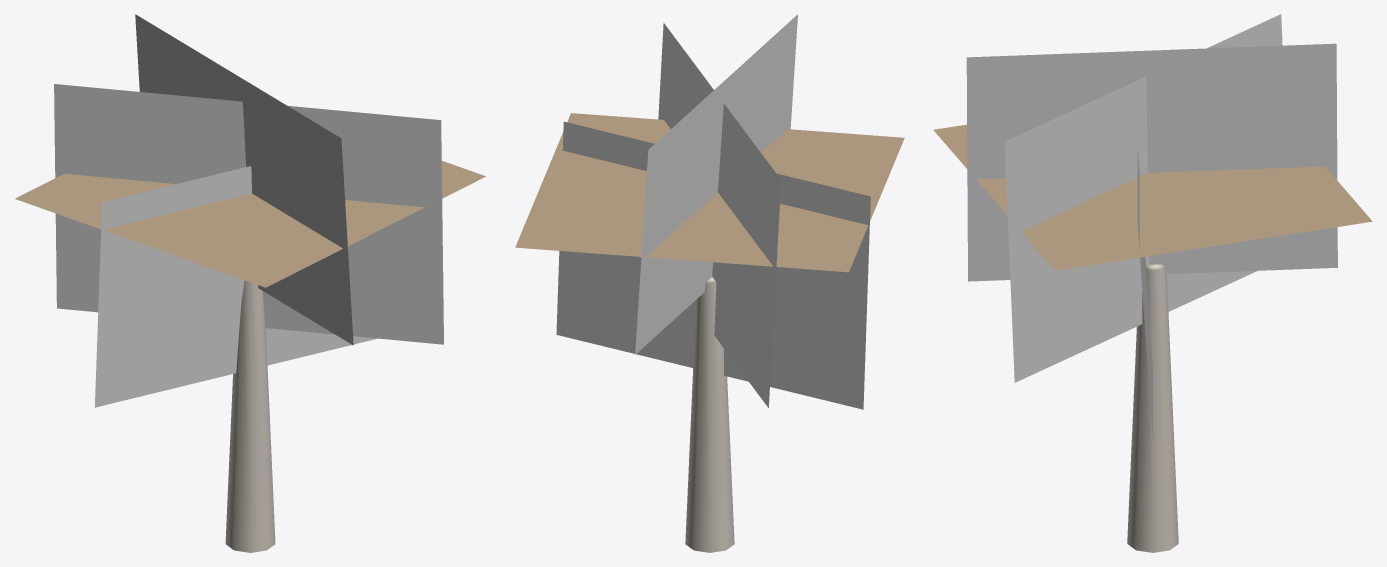
The model's file is tree-autumn-v1.lod2.glb.
3 views of the same model, side by side, from view 1: azimuth 30°, elevation 25°; view 2: azimuth 150°, elevation 25°; view 3: azimuth 270°, elevation 25° (orthographic). The views are drawn at different scales.
Visible parts, largest first — view 1: tree-autumn-v1.lod2; view 2: tree-autumn-v1.lod2; view 3: tree-autumn-v1.lod2.
Boxes of the visible parts, x1,y1,x2,y2 form: tree-autumn-v1.lod2: [15, 14, 485, 552]; tree-autumn-v1.lod2: [515, 14, 904, 552]; tree-autumn-v1.lod2: [933, 14, 1372, 552].
Size of the model in its own units: 8.23 by 9.8 by 8.05.
